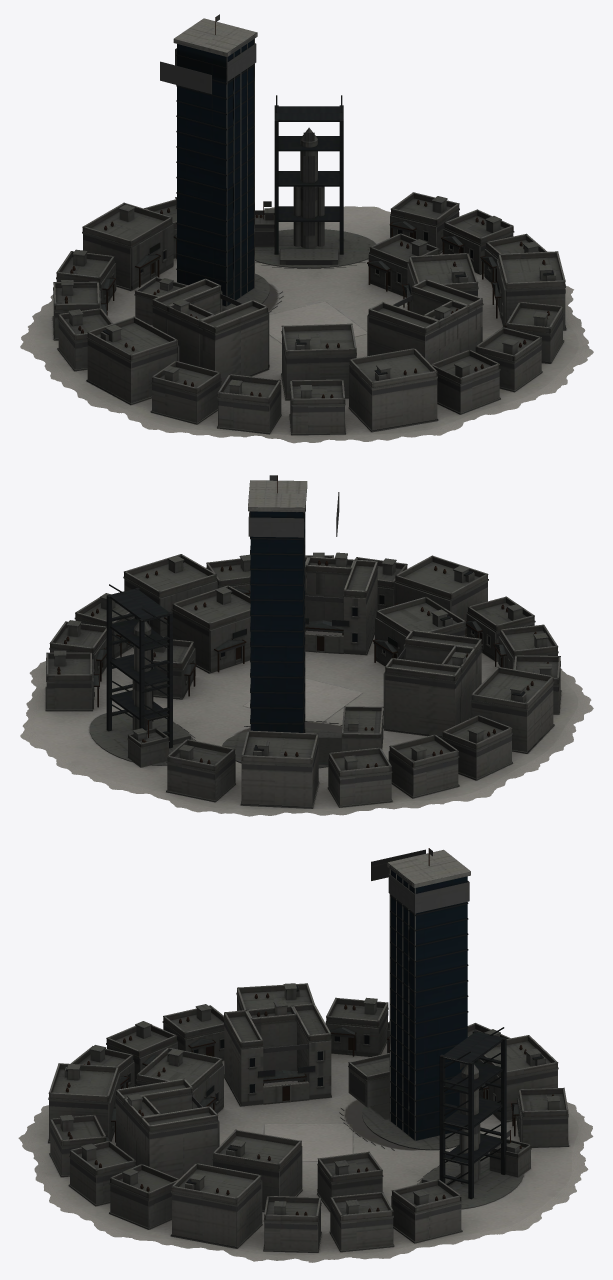
The model's file is modern-town-big-a-steppe-26268c75.glb.
3 renders of one model, top to bottom at view 1: azimuth 30°, elevation 25°; view 2: azimuth 150°, elevation 25°; view 3: azimuth 270°, elevation 25°, orthographic.
Parts seen in each view (by area): view 1: LOD0; view 2: LOD0; view 3: LOD0.
Boxes of the visible parts, x1,y1,x2,y2 form: LOD0: (20,14,593,443); LOD0: (20,475,593,816); LOD0: (18,848,593,1262).
Size of what is drawn, in the model's own units: 7.9 by 4.2 by 7.96.
3 materials, 3 textured.
